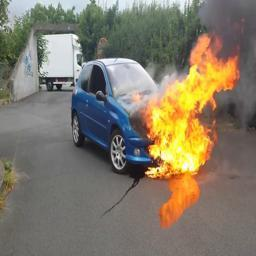fire: (144, 35, 240, 174)
